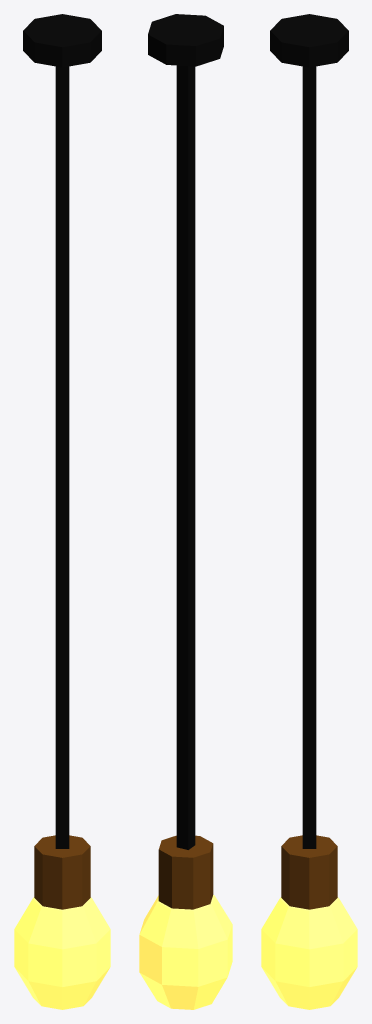
File: SM_HLight_BareBulb.glb
The picture shows the model from 3 angles, left to right: view 1: azimuth 90°, elevation 25°; view 2: azimuth 150°, elevation 25°; view 3: azimuth 270°, elevation 25°; orthographic projection.
Parts seen in each view (by area): view 1: SM_HLight_BareBulb; view 2: SM_HLight_BareBulb; view 3: SM_HLight_BareBulb.
Part boxes in pixels (box(x1,y1,x2,y2)): SM_HLight_BareBulb: box(14, 14, 110, 1009); SM_HLight_BareBulb: box(139, 14, 232, 1009); SM_HLight_BareBulb: box(261, 14, 357, 1009).
Size of the model in its own units: 0.0856 by 0.96 by 0.0856.
